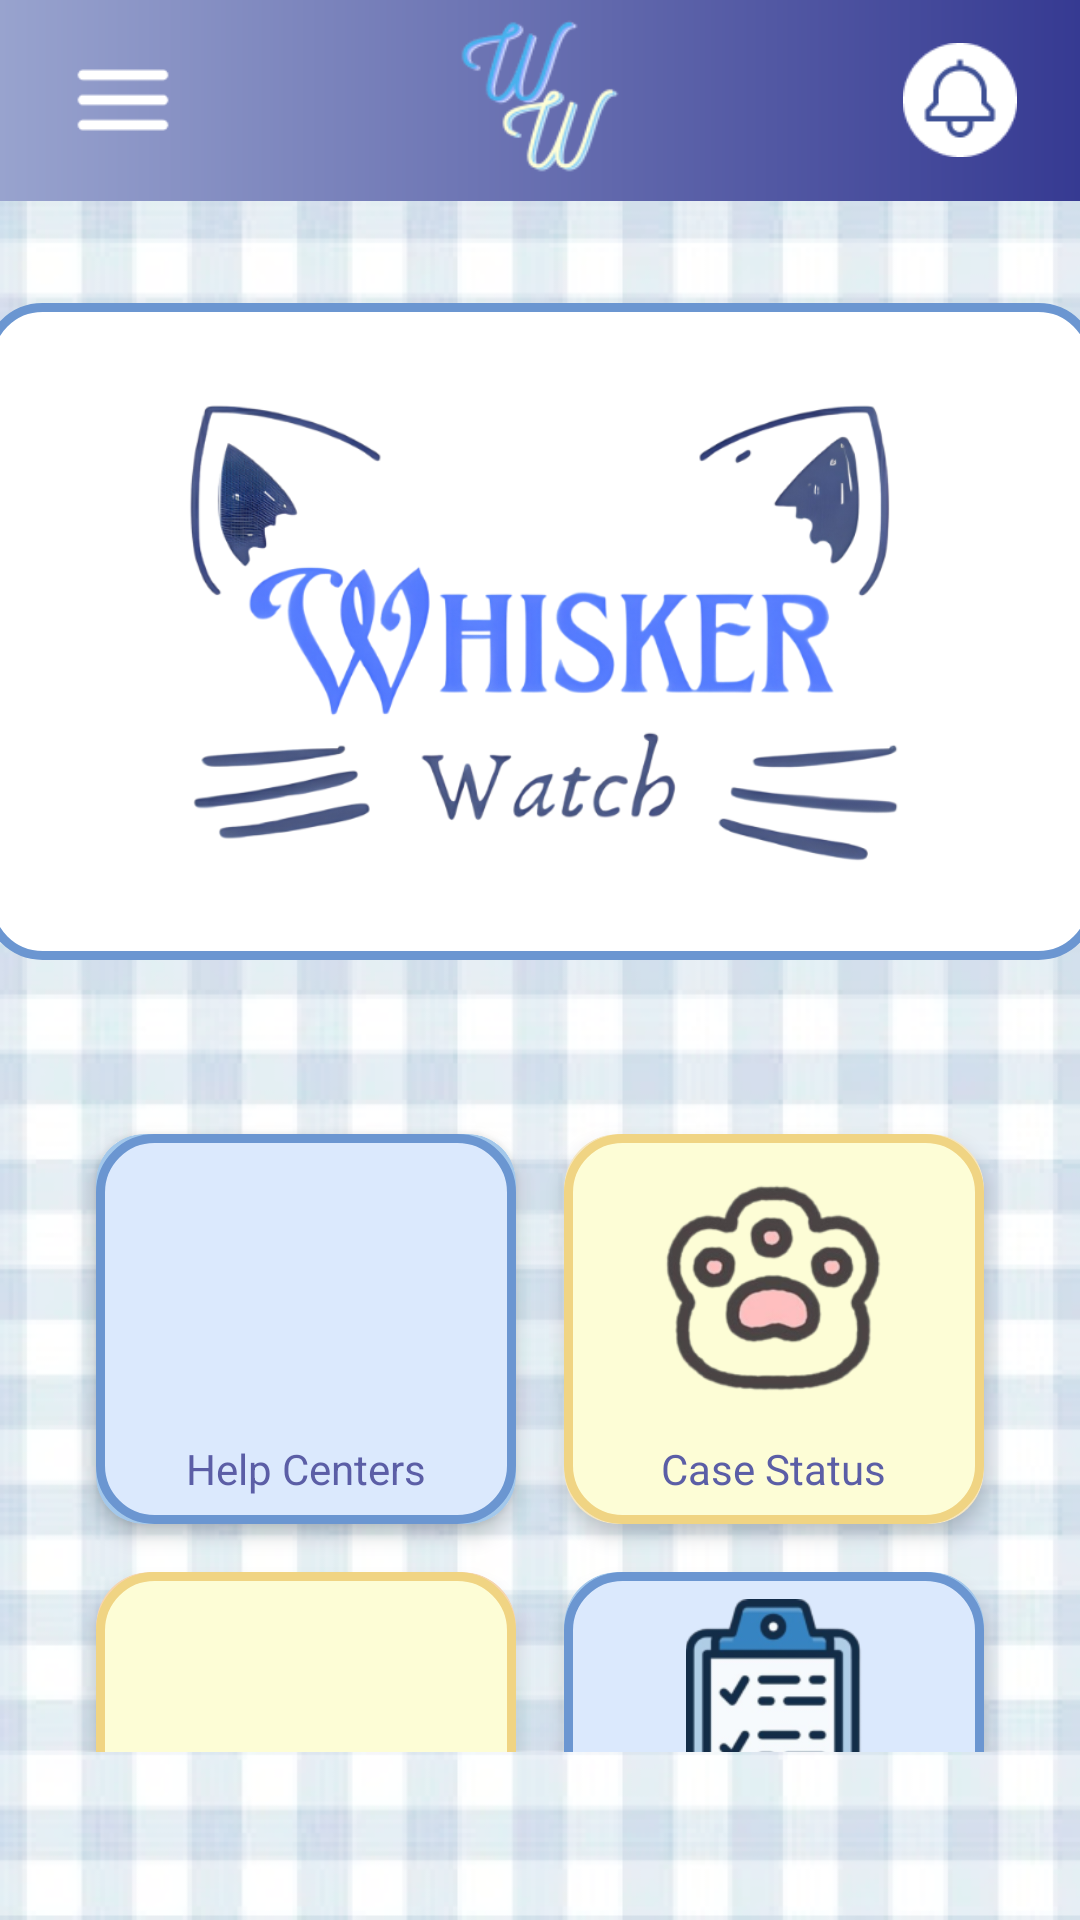

Screen size 1080×1920. Icon name, then its box in pixels as (x1, y1, x2, y2):
Menu: (77, 69, 169, 131)
Notifications: (903, 43, 1017, 157)
